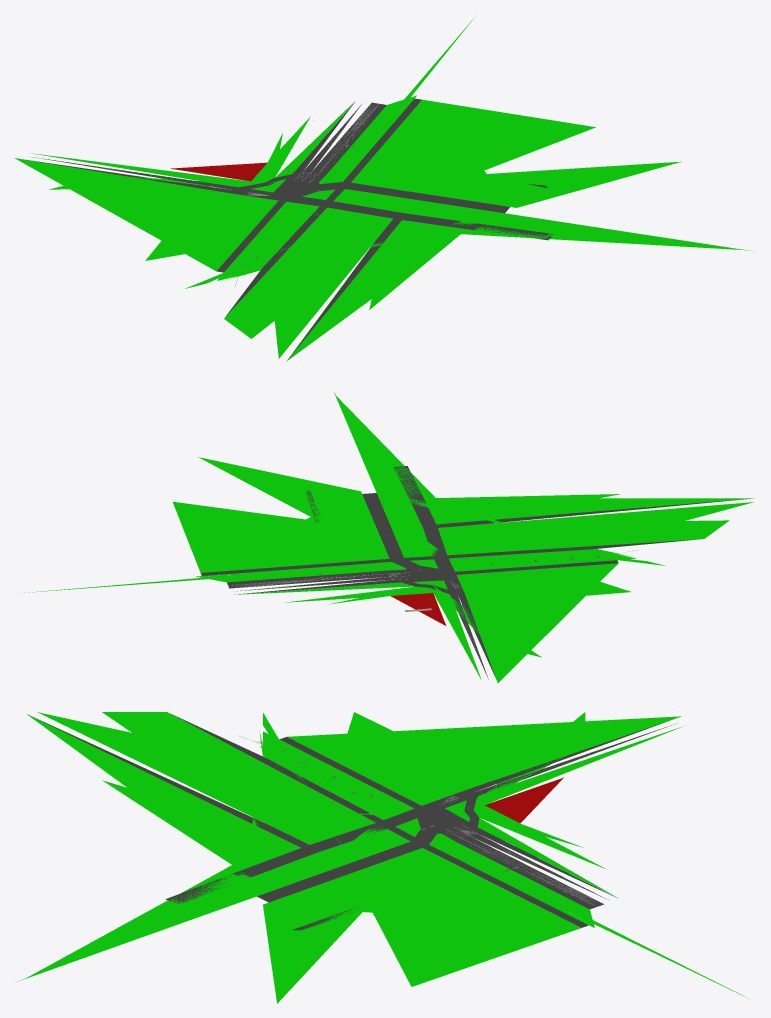
3 renders of one model, top to bottom at view 1: azimuth 30°, elevation 25°; view 2: azimuth 150°, elevation 25°; view 3: azimuth 270°, elevation 25°, orthographic. The views are drawn at different scales.
Bounding box in the file's own units: 257 × 2.5 × 277.
